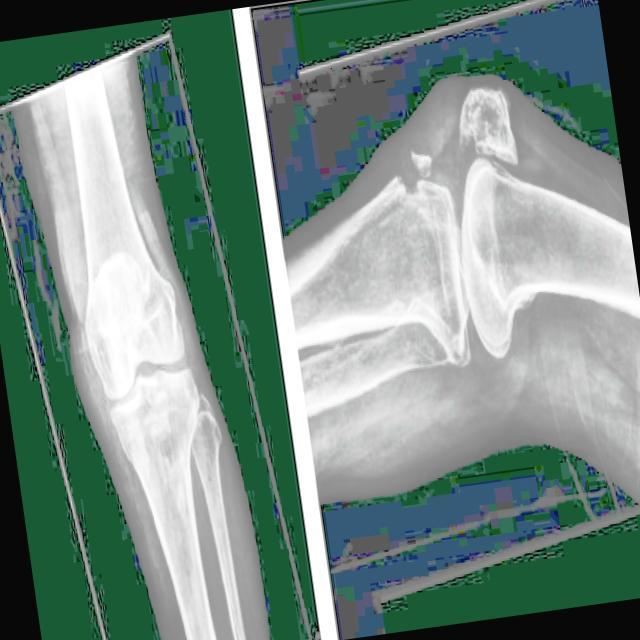Avlusion Fracture: (402, 135, 442, 188)
